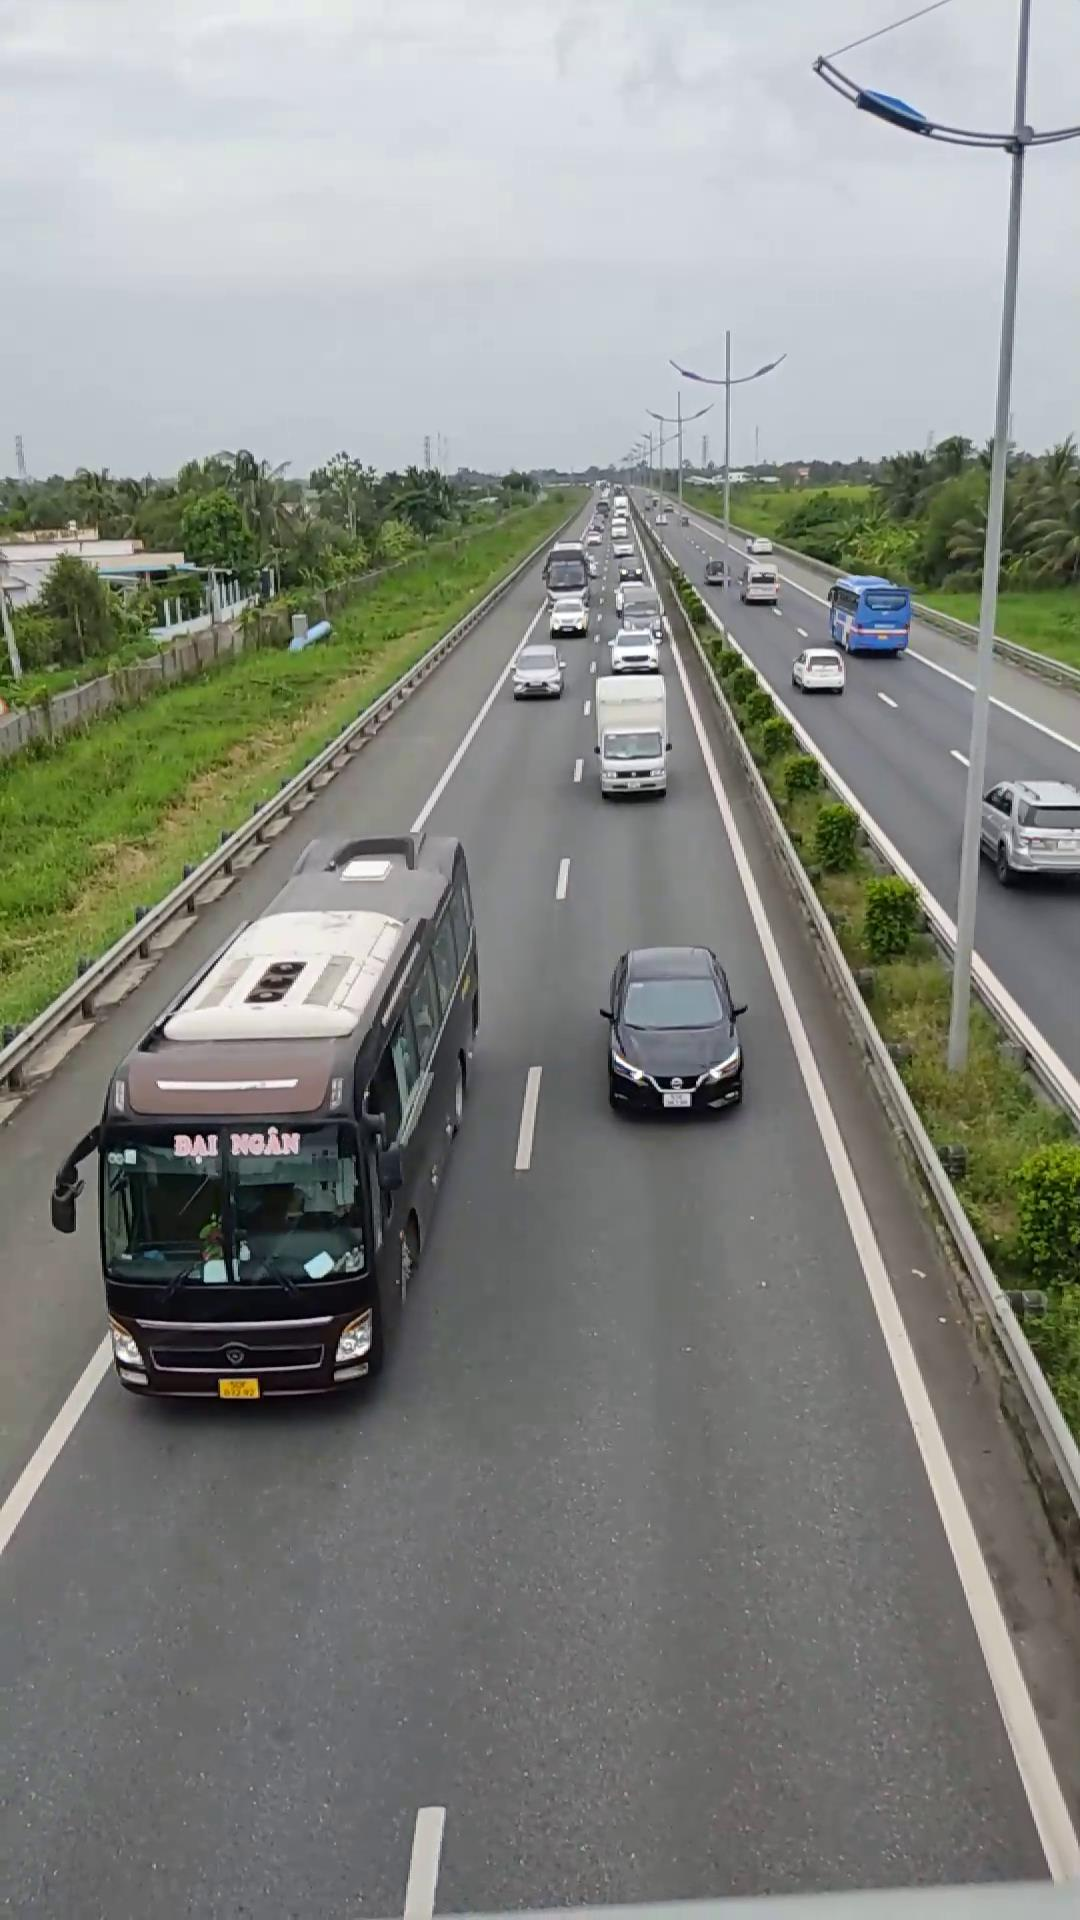bus: (62, 829, 484, 1400)
car: (600, 944, 746, 1117), (970, 755, 1080, 887), (588, 675, 672, 797)
